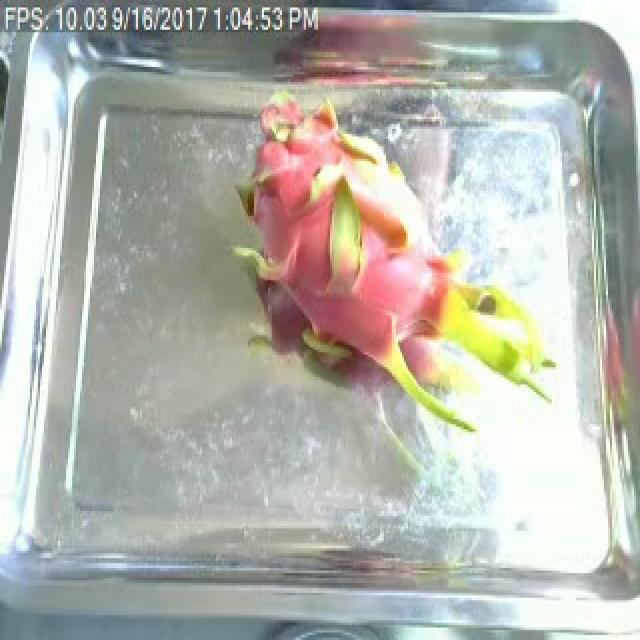fruit: (210, 77, 574, 479)
